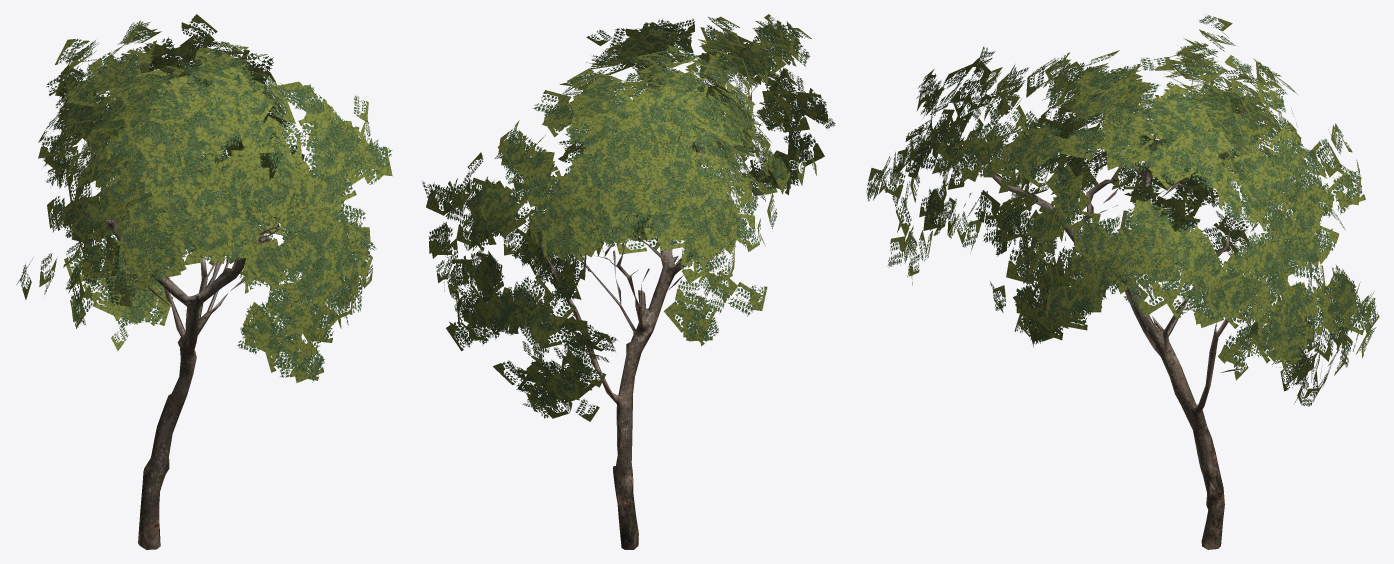
File: tree_small_02.glb
3 renders of one model, left to right at view 1: azimuth 30°, elevation 25°; view 2: azimuth 150°, elevation 25°; view 3: azimuth 270°, elevation 25°, orthographic. The views are drawn at different scales.
Parts seen in each view (by area): view 1: tree_small_02_LOD0; view 2: tree_small_02_LOD0; view 3: tree_small_02_LOD0.
Part boxes in pixels (x1=…): tree_small_02_LOD0: x1=16, y1=14, x2=392, y2=549; tree_small_02_LOD0: x1=422, y1=14, x2=835, y2=549; tree_small_02_LOD0: x1=866, y1=14, x2=1379, y2=549.
Size of the model in its own units: 2.94 by 4.66 by 4.34.
3 materials, 3 textured.
